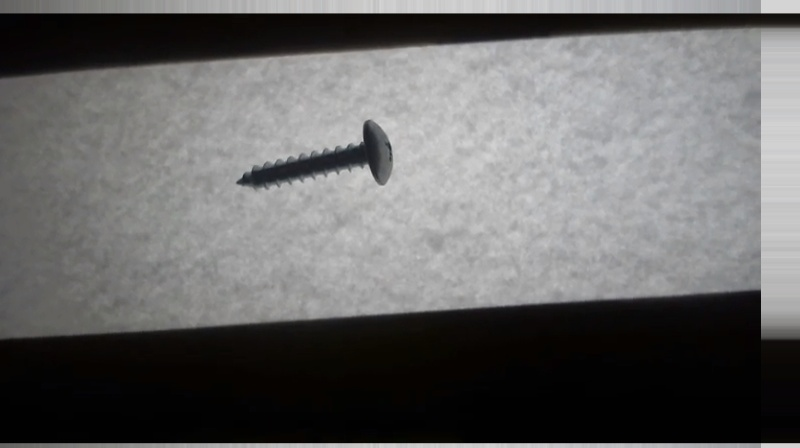S003: (233, 116, 397, 194)
